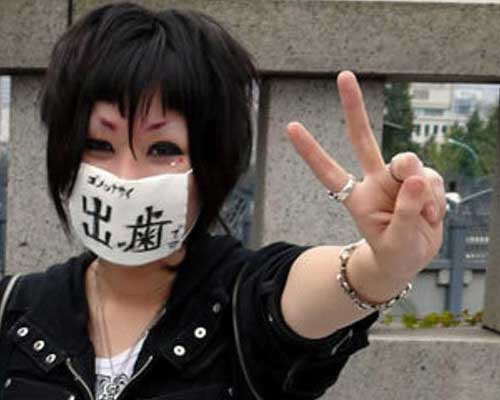face_mask: (56, 70, 207, 260)
